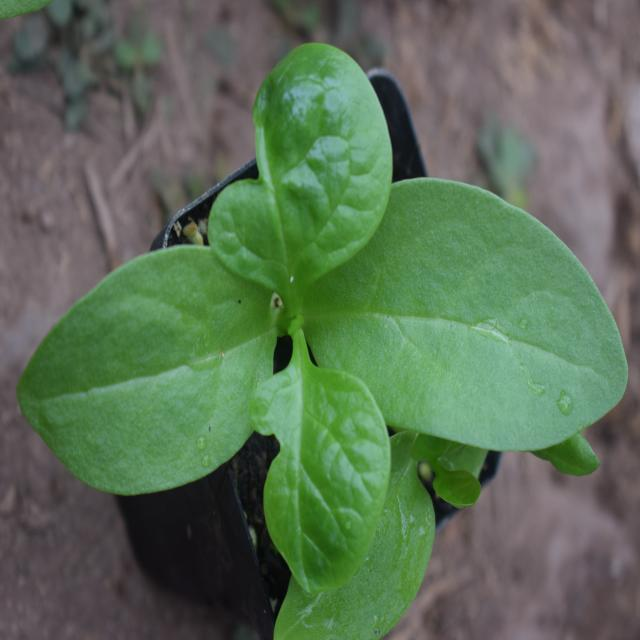Ceylon spinach: (26, 69, 623, 590)
